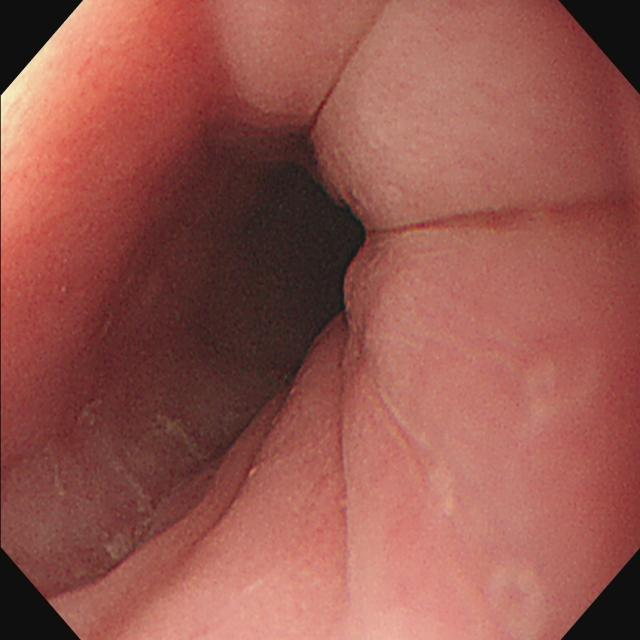E: (164, 116, 396, 382)
